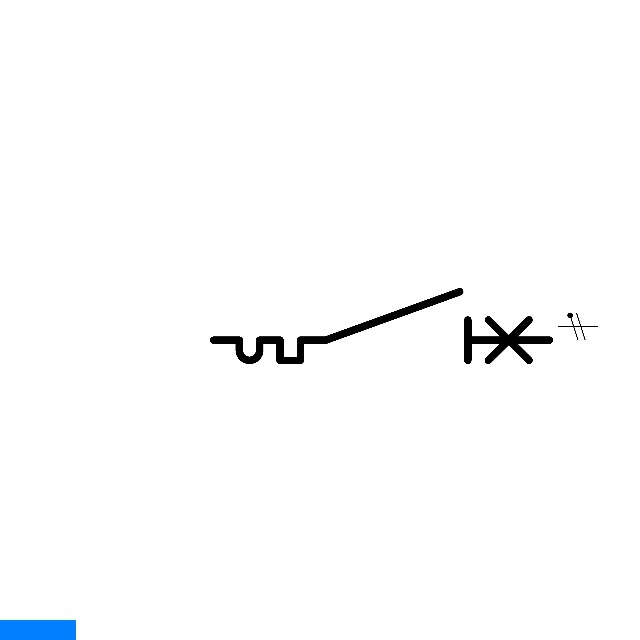interruptor_termomagnetico: (205, 283, 558, 369)
